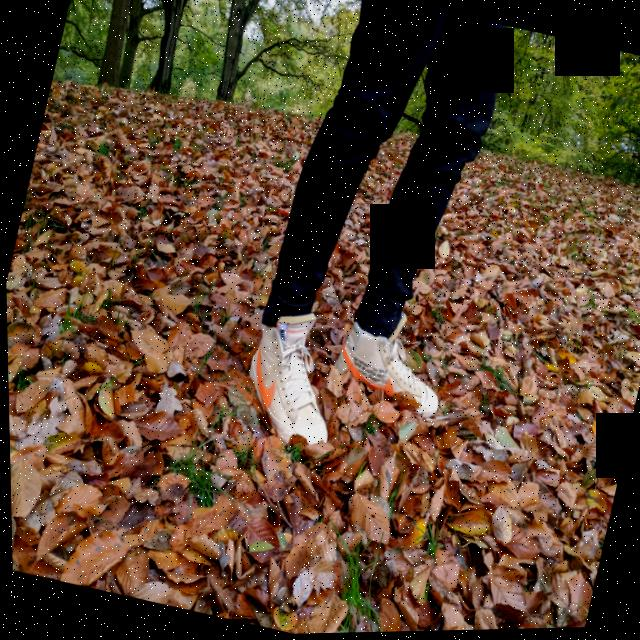shoe: (196, 240, 379, 477), (322, 258, 468, 423)
